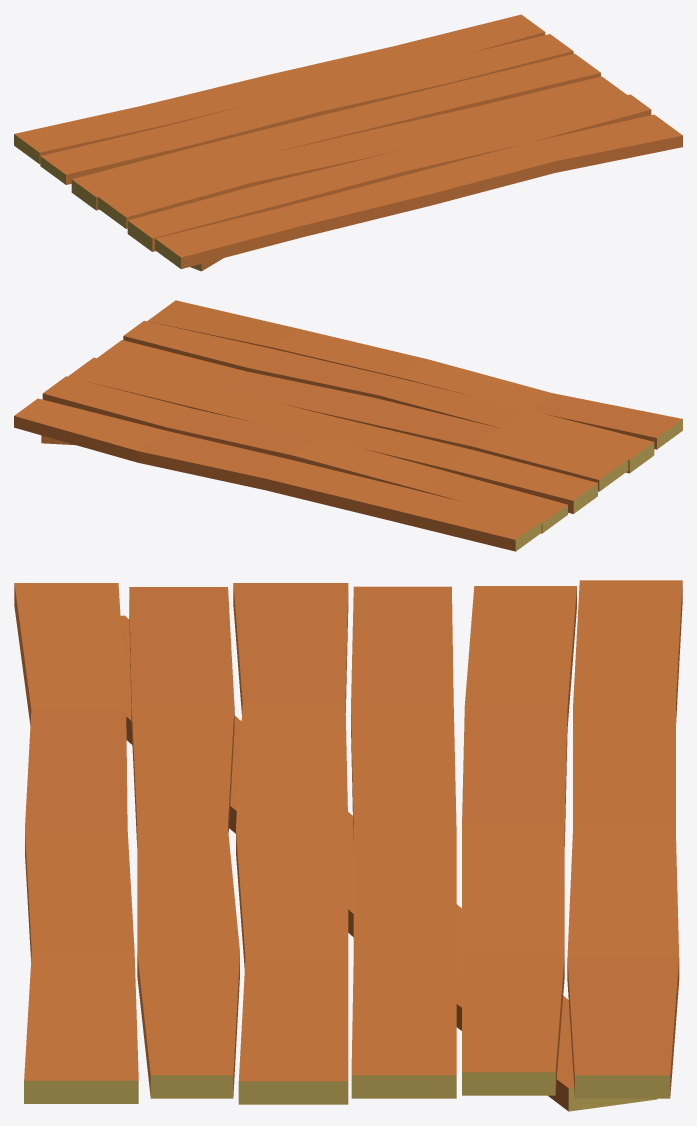
File: platform1.fbx
The picture shows the model from 3 angles, top to bottom: view 1: azimuth 30°, elevation 25°; view 2: azimuth 150°, elevation 25°; view 3: azimuth 270°, elevation 25°; orthographic projection. The views are drawn at different scales.
Parts seen in each view (by area): view 1: Cube; view 2: Cube; view 3: Cube.
Part boxes in pixels (box(x1,y1,x2,y2)): Cube: box(14, 14, 682, 271); Cube: box(14, 300, 682, 551); Cube: box(14, 580, 682, 1111).
Bounding box in the file's own units: 1603 × 89.06 × 920.
